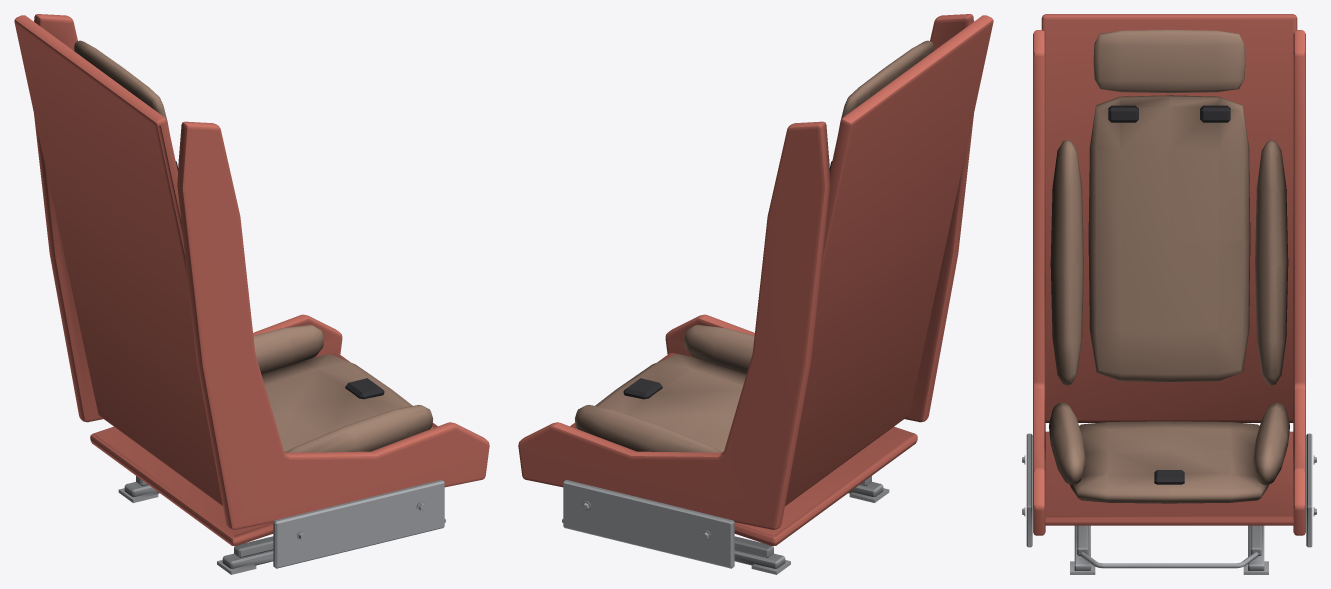
The model's file is seat_race.glb.
3 views of the same model, side by side, from view 1: azimuth 30°, elevation 25°; view 2: azimuth 150°, elevation 25°; view 3: azimuth 270°, elevation 25° (orthographic). The views are drawn at different scales.
Parts seen in each view (by area): view 1: PART; view 2: PART; view 3: PART.
Boxes of the visible parts, box(x1,y1,x2,y2) form: PART: box(14, 14, 489, 574); PART: box(518, 14, 993, 574); PART: box(1022, 14, 1316, 574).
Bounding box in the file's own units: 0.6597 × 0.932 × 0.5775.
